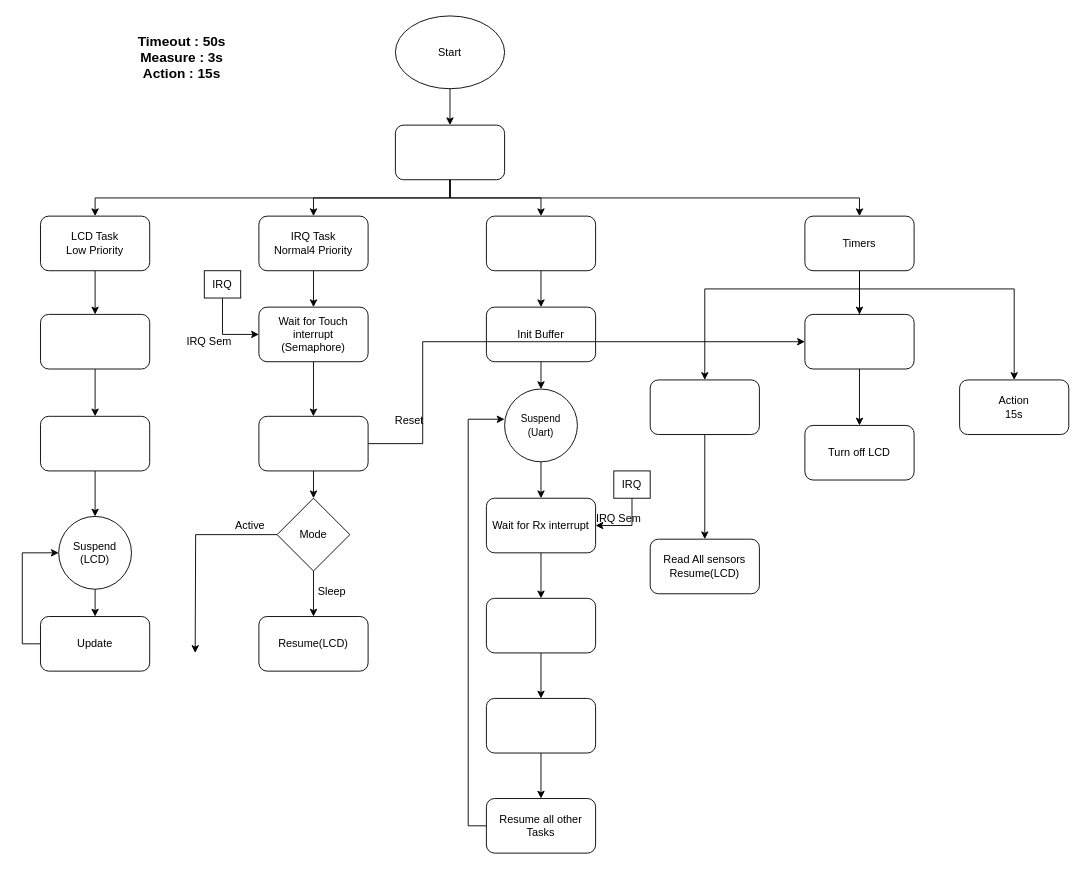
This 1085x869 diagram has some shape labels left out. Each missing label, with the centre of its shape:
"Display background params" belongs at [95,341].
"Init clock, peripheral, scheduler, task, timer" belongs at [449,152].
"Measure 3s" belongs at [704,407].
"Parse Payload Get Buffer" belongs at [540,725].
"Reset Timeout" belongs at [313,443].
"Start All Timers" belongs at [95,443].
"Suspend all other Tasks" belongs at [540,625].
"Timeout 50s LCD" belongs at [859,341].
"Uart Task AboveNormal Priority" belongs at [540,243].
